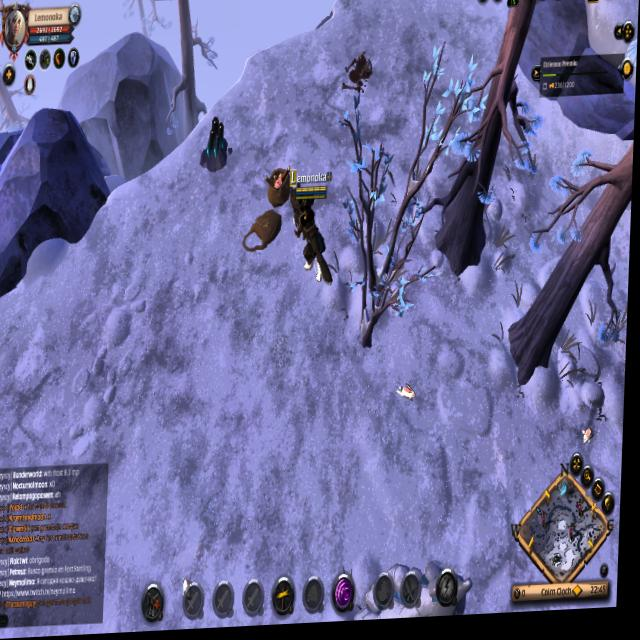ore tier 4: (200, 116, 238, 182)
